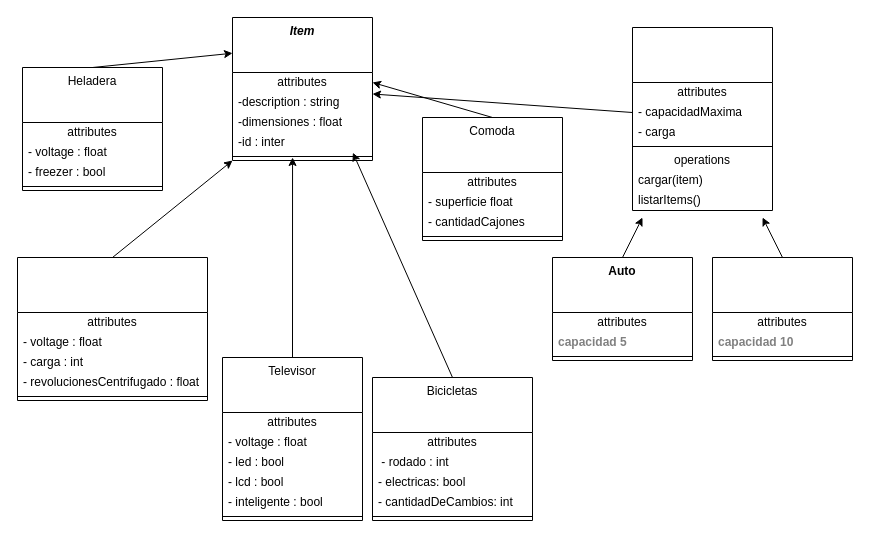
The diagram is 870 pixels wide and 538 high, and some of its shapes have lost their labels. The shapes that lost their labels are listed below. From the top down, each one's box as (x1, y1, x2, y2) in pixels, then its label:
(632, 26, 772, 210): Vehiculos
(16, 256, 208, 400): Lavarropas
(712, 256, 852, 360): Camioneta
